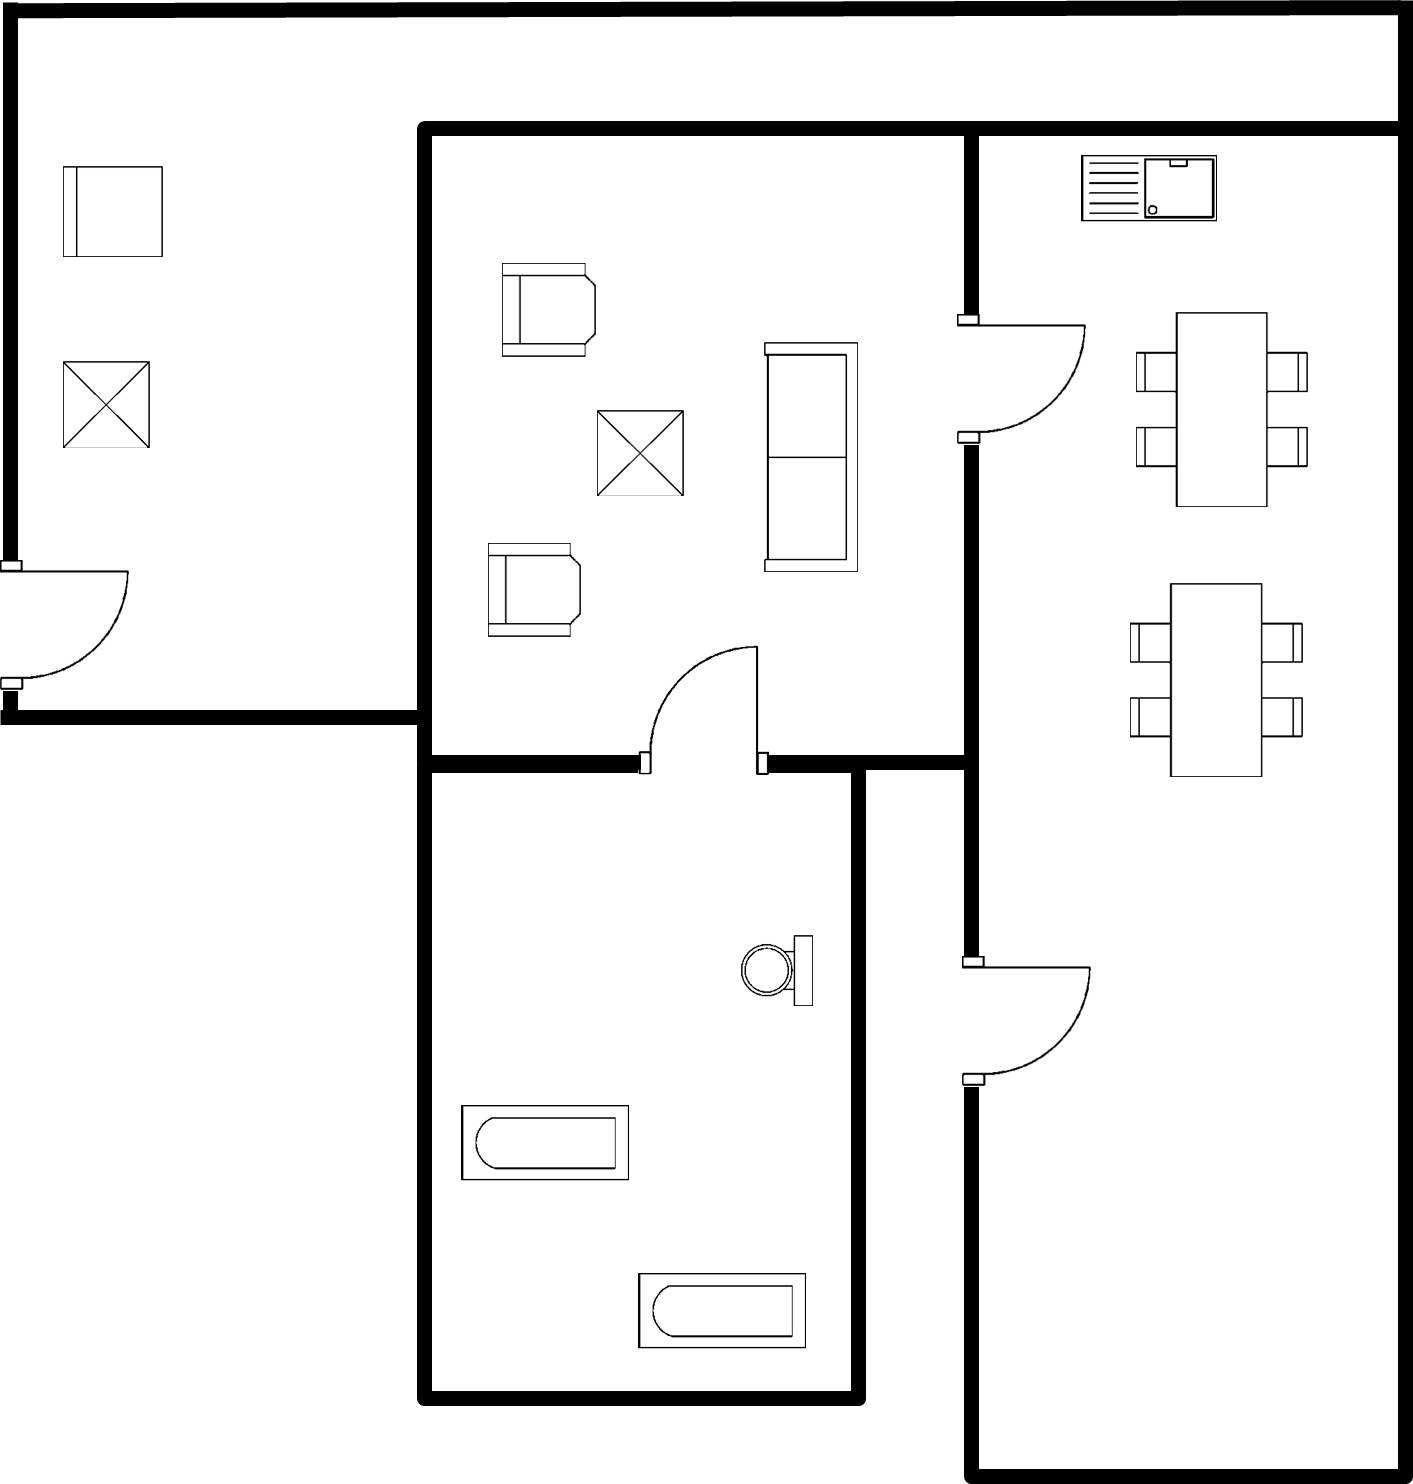armchair: (483, 249, 605, 368), (473, 533, 586, 652)
coffee_table: (586, 398, 695, 507), (50, 351, 159, 459)
dining_table: (1120, 565, 1312, 795), (1123, 297, 1318, 524)
large_sink: (727, 922, 821, 1019)
large_sofa: (750, 332, 869, 588)
sink: (1069, 146, 1231, 239)
small_sofa: (52, 156, 176, 269)
tub: (623, 1264, 824, 1361), (447, 1095, 640, 1194)
